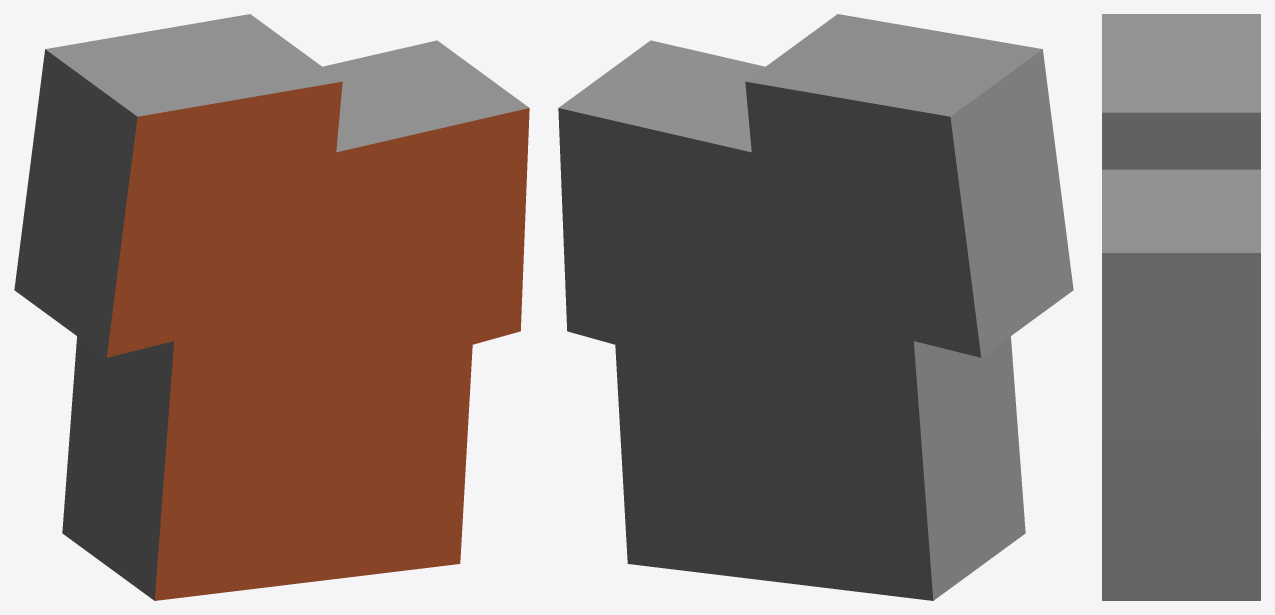
File: construction_2510_assumed_A_Casa_h6m.obj
The picture shows the model from 3 angles, left to right: view 1: azimuth 30°, elevation 25°; view 2: azimuth 150°, elevation 25°; view 3: azimuth 270°, elevation 25°; orthographic projection. The views are drawn at different scales.
Parts seen in each view (by area): view 1: construction_2510_assumed_A_Casa; view 2: construction_2510_assumed_A_Casa; view 3: construction_2510_assumed_A_Casa.
Part boxes in pixels (x1=…): construction_2510_assumed_A_Casa: x1=14, y1=14, x2=529, y2=600; construction_2510_assumed_A_Casa: x1=558, y1=14, x2=1073, y2=600; construction_2510_assumed_A_Casa: x1=1102, y1=14, x2=1260, y2=600.
Size of the model in its own units: 15.86 by 18.84 by 6.
